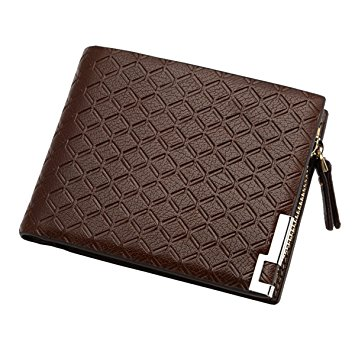monedero: (19, 45, 341, 305)
